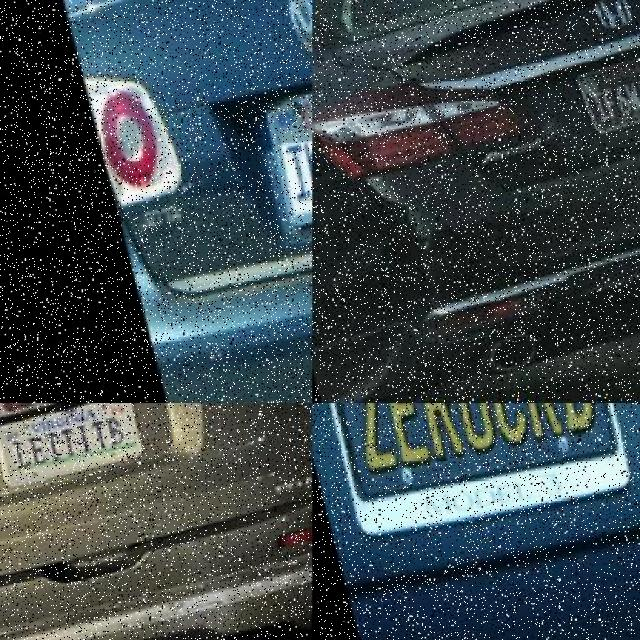licenseplate: (312, 403, 637, 580), (0, 403, 139, 492), (254, 70, 312, 232), (571, 61, 640, 140)
